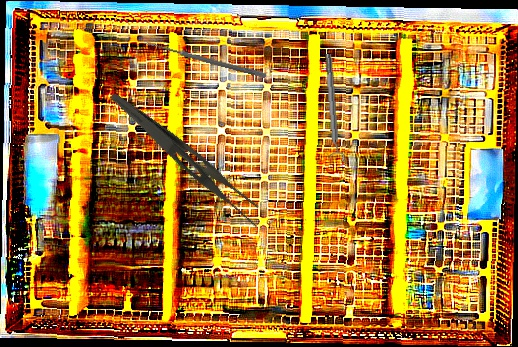Dressing Forceps: (97, 90, 273, 231)
Fixation Ring: (320, 53, 346, 163)
Surgical Spoon: (143, 39, 267, 79)
